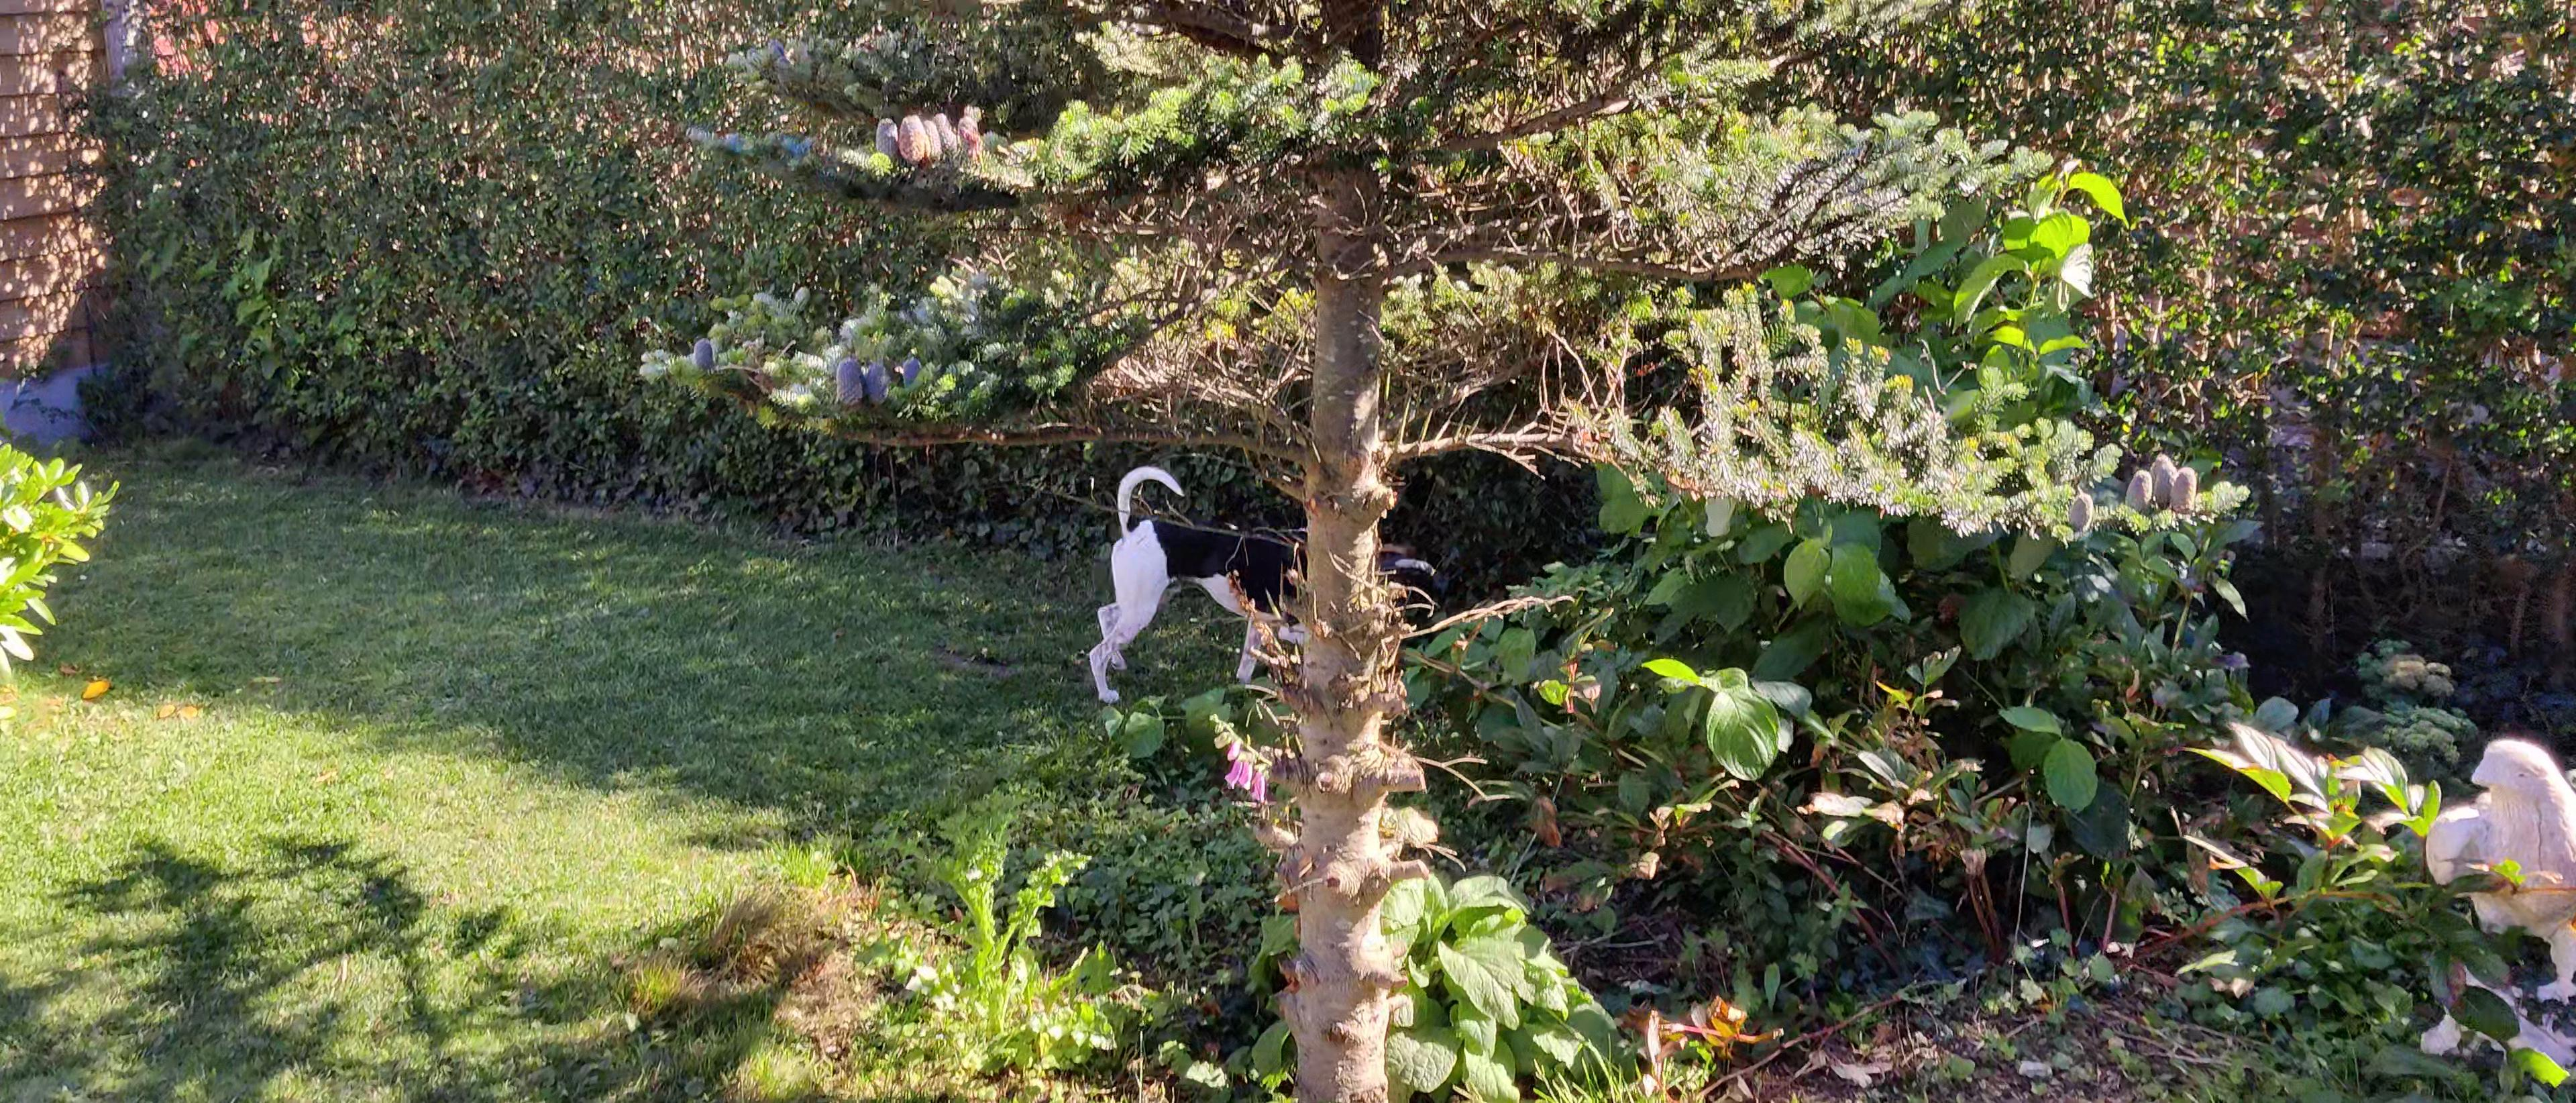Dog: (1084, 460, 1428, 707)
